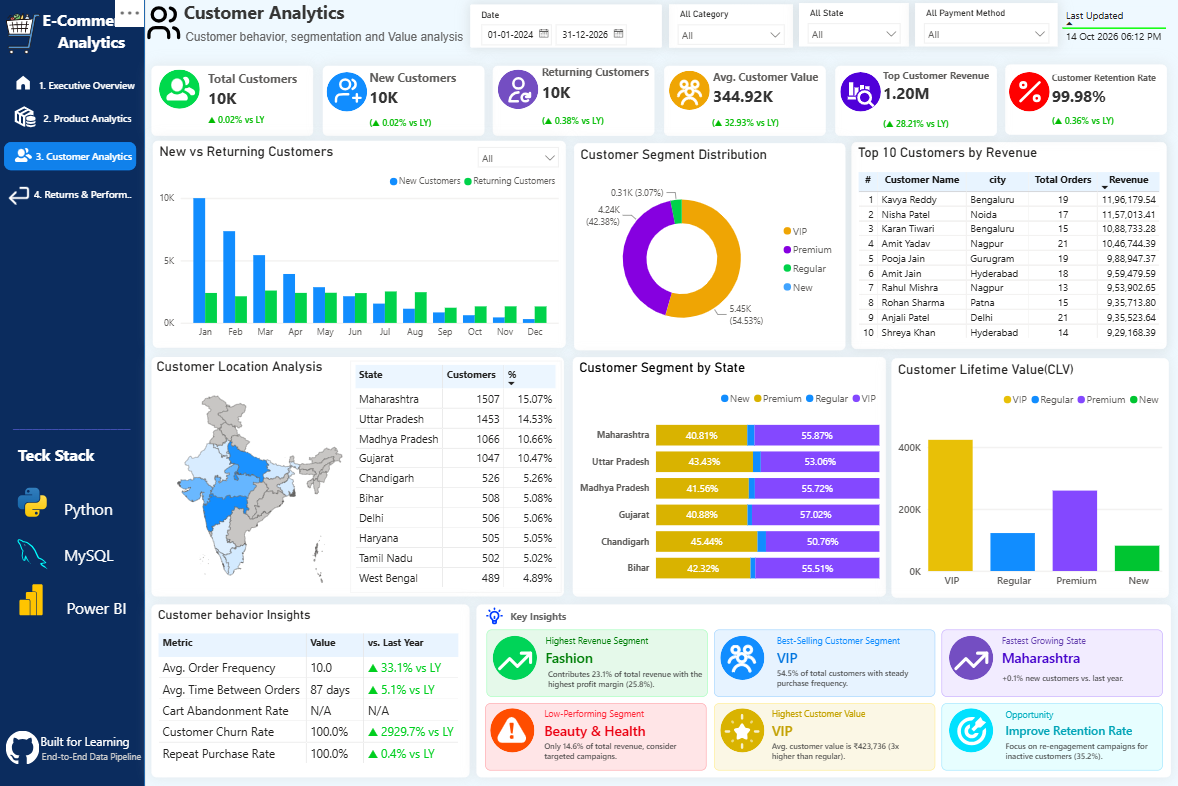

The page's visual inventory and layout, read from the dashboard file:
{"tool":"powerbi","page":{"name":"3. Customer Analytics","canvas":[1600,1070],"ordinal":2},"visuals":[{"type":"slicer","fields":{"Values":["products.category"]},"box":[909,10,168,58],"z":0},{"type":"slicer","fields":{"Values":["calendar.date"]},"box":[638.8,10.4,259.7,58.2],"z":1000},{"type":"tableEx","fields":{"Values":["RefreshInfo.Last Updated Text"]},"box":[1435.6,8.4,163,65],"z":2000},{"type":"slicer","fields":{"Values":["customers.state"]},"box":[1085,9,149,58],"z":3000},{"type":"slicer","fields":{"Values":["orders.payment_method"]},"box":[1243,9,193,58],"z":4000},{"type":"shape","box":[0,0,197.7,1080.2],"z":5000},{"type":"image","box":[3.3,21.7,58.5,55.1],"z":6000},{"type":"textbox","box":[52.6,12.2,145.5,73.4],"z":7000},{"type":"actionButton","title":"1. Executive Overview","box":[6.7,197.2,178.8,38.4],"z":8000},{"type":"actionButton","title":"1. Executive Overview","box":[3.6,95.2,184.5,47.6],"z":9000},{"type":"actionButton","title":"1. Executive Overview","box":[3.3,247.3,180.5,40.1],"z":10000},{"type":"actionButton","title":"1. Executive Overview","box":[5,140,178.8,46.2],"z":11000},{"type":"image","box":[13.4,107,38.4,20.1],"z":12000},{"type":"image","box":[5,145,61.2,33.8],"z":13000},{"type":"image","box":[11.7,195.5,43.5,38.4],"z":14000},{"type":"shape","box":[207.5,92.5,219.4,95.5],"z":15000},{"type":"textbox","box":[238.8,0,358.3,63.6],"z":16000},{"type":"textbox","box":[247.8,40.3,420.9,37.3],"z":17000},{"type":"textbox","box":[12.9,556.5,180.6,40.3],"z":18000},{"type":"image","box":[21,662.9,50,45.2],"z":19000},{"type":"image","box":[22.6,727.4,46.8,56.5],"z":20000},{"type":"image","box":[19.4,795.2,50,45.2],"z":21000},{"type":"textbox","box":[83.9,674.2,88.6,40.1],"z":22000},{"type":"textbox","box":[87.1,808.1,123.7,48.5],"z":23000},{"type":"textbox","box":[83.9,737.1,105.3,58.5],"z":24000},{"type":"textbox","box":[21,601.6,138.7,38.7],"z":25000},{"type":"tableEx","title":"Top 10 Customers by Revenue","fields":{"Values":["select","customers.customer_name","customers.city","orders.Total Orders","orders.Total Revenue"]},"box":[1156.7,197,427,281],"z":26000},{"type":"image","box":[11.7,254,30.1,30.1],"z":27000},{"type":"image","box":[197,0,53.7,70.1],"z":28000},{"type":"shape","box":[217.4,98.9,55.4,53.3],"z":29000},{"type":"textbox","box":[53.2,1014.5,167.7,33.9],"z":30000},{"type":"shape","box":[1363.7,91.9,219.4,95.5],"z":31000},{"type":"shape","box":[1134.3,92.5,219.4,95.5],"z":32000},{"type":"shape","box":[901.5,92.5,219.4,95.5],"z":33000},{"type":"shape","box":[670.1,92.5,219.4,95.5],"z":34000},{"type":"shape","box":[438.8,92.5,219.4,95.5],"z":35000},{"type":"image","box":[6.5,995.2,50,45.3],"z":36000},{"type":"image","box":[894.1,93.6,83.6,65.7],"z":37000},{"type":"cardVisual","fields":{"Data":["orders.Total Customers"]},"box":[253.7,79.1,185.2,90.9],"z":38000},{"type":"cardVisual","fields":{"Data":["orders.Customers VS LY"]},"box":[255,137,179,55],"z":39000},{"type":"shape","box":[1368.7,101.9,55.1,53.5],"z":40000},{"type":"shape","box":[1140.3,101.5,55.2,53.7],"z":41000},{"type":"shape","box":[909,100,55.4,53.3],"z":42000},{"type":"shape","box":[676.1,98.5,55.2,53.7],"z":43000},{"type":"shape","box":[444.8,101.5,55.2,53.7],"z":44000},{"type":"image","box":[1143.1,110.3,53.5,43.5],"z":45000},{"type":"image","box":[442.5,107.5,61.8,40.1],"z":46000},{"type":"image","box":[204.9,91.4,84,65.4],"z":47000},{"type":"cardVisual","fields":{"Data":["customers.Top Customer Revenue"]},"box":[1169.8,78.5,205.6,85.2],"z":48000},{"type":"cardVisual","fields":{"Data":["customers.Avg. Customer Value"]},"box":[939.2,78.5,207.2,90.2],"z":49000},{"type":"cardVisual","fields":{"Data":["customers.Returning Customers"]},"box":[706.9,80.2,229,75.2],"z":50000},{"type":"cardVisual","fields":{"Data":["customers.New Customers"]},"box":[473,78.5,185.2,90.9],"z":51000},{"type":"cardVisual","fields":{"Data":["customers.Customer Retention Rate"]},"box":[1398.8,88.6,200,73.5],"z":52000},{"type":"cardVisual","fields":{"Data":["customers.Customer Retention Rate VS LY"]},"box":[1398.8,138.7,157.1,55.1],"z":53000},{"type":"cardVisual","fields":{"Data":["customers.Top Customer Revenue VS LY"]},"box":[1169.8,142.1,179,55],"z":54000},{"type":"cardVisual","fields":{"Data":["customers.Avg. Customer Value VS LY"]},"box":[937.5,140.4,160.4,55.1],"z":55000},{"type":"cardVisual","fields":{"Data":["customers.Returning Customers VS LY"]},"box":[706.9,138.7,179,55],"z":56000},{"type":"cardVisual","fields":{"Data":["customers.New Customers VS LY"]},"box":[473,140.4,165.4,55.1],"z":57000},{"type":"image","box":[1370.4,107,53.5,43.5],"z":58000},{"type":"clusteredColumnChart","title":"New vs Returning Customers ","fields":{"Category":["calendar.Month Name"],"Y":["customers.New Customers","customers.Returning Customers"]},"box":[208.9,195.5,559.9,281],"z":59000},{"type":"slicer","fields":{"Values":["calendar.Year"]},"box":[638.4,193.9,130.4,48.5],"z":60000},{"type":"donutChart","title":"Customer Segment Distribution","fields":{"Y":["CountNonNull(customers.customer_id)"],"Category":["customers.Customer Segment"]},"box":[780,197.8,367.8,281.1],"z":61000},{"type":"shape","box":[207.4,488.9,559.3,324.7],"z":62000},{"type":"shapeMap","title":"Customer Location Analysis","fields":{"Category":["customers.state"],"Value":["orders.Total Customers"]},"box":[208.6,490.1,291,323.5],"z":63000},{"type":"tableEx","fields":{"Values":["customers.state","orders.Total Customers","customers.State Customer %"]},"box":[476,494,286,314],"z":64000},{"type":"hundredPercentStackedBarChart","title":"Customer Segment by State","fields":{"Category":["customers.state"],"Series":["customers.Customer Segment"],"Y":["CountNonNull(customers.customer_id)"]},"box":[777.5,488.8,425,325],"z":65000},{"type":"columnChart","title":"Customer Lifetime Value(CLV)","fields":{"Y":["customers.Customer Lifetime Value"],"Category":["customers.Customer Segment"],"Series":["customers.Customer Segment"]},"box":[1210.7,489.3,376.2,325],"z":66000},{"type":"tableEx","title":"Customer behavior Insights","fields":{"Values":["Customer Behavior Metrics.Metric","Customer Behavior Metrics.Behavior Value","Customer Behavior Metrics.Behavior VS LY"]},"box":[207.4,823.5,430.9,234.6],"z":67000},{"type":"shape","box":[648.1,823.5,942,234.6],"z":68000},{"type":"image","box":[654.3,824.7,35.8,27.2],"z":69000},{"type":"shape","box":[660.5,858,300,91.4],"z":70000},{"type":"shape","box":[969.1,858,300,91.4],"z":71000},{"type":"shape","box":[1277.8,858,300,91.4],"z":72000},{"type":"shape","box":[659.3,956.8,300,91.4],"z":73000},{"type":"shape","box":[1277.8,956.8,300,91.4],"z":74000},{"type":"shape","box":[969.1,956.8,300,91.4],"z":75000},{"type":"textbox","box":[688.9,825.9,87.7,32.1],"z":76000},{"type":"shape","box":[977.5,866.2,60,60],"z":77000},{"type":"image","box":[976.2,877.5,61.2,38.8],"z":78000},{"type":"shape","box":[668.8,866.2,60,60],"z":79000},{"type":"shape","box":[977.5,965,60,60],"z":80000},{"type":"shape","box":[666.2,965,60,60],"z":81000},{"type":"shape","box":[1288.8,866.2,60,60],"z":82000},{"type":"shape","box":[1288.8,965,60,60],"z":83000},{"type":"image","box":[912.5,111.2,48.8,35],"z":84000},{"type":"image","box":[680,105,52.5,41.2],"z":85000},{"type":"image","box":[1288.8,976.2,61.2,38.8],"z":86000},{"type":"image","box":[977.5,968.8,58.8,52.5],"z":87000},{"type":"image","box":[665,975,61.2,38.8],"z":88000},{"type":"image","box":[673.8,867.5,50,65],"z":89000},{"type":"image","box":[1292.5,867.5,50,65],"z":90000},{"type":"cardVisual","fields":{"Data":["orders.Highest Revenue Segment"]},"box":[712,849,252,75],"z":91000},{"type":"cardVisual","fields":{"Data":["orders.Page3,1_Description"]},"box":[715,874,296,99],"z":92000},{"type":"cardVisual","fields":{"Data":["orders.Best-Selling Customer Segment"]},"box":[1026,849,252,75],"z":93000},{"type":"cardVisual","fields":{"Data":["orders.Page3,2_Description"]},"box":[1026,868,252,108],"z":94000},{"type":"cardVisual","fields":{"Data":["orders.Fastest Growing State"]},"box":[1331,849,252,75],"z":95000},{"type":"cardVisual","fields":{"Data":["orders.Page3,3_Description"]},"box":[1331,893,234,56],"z":96000},{"type":"cardVisual","fields":{"Data":["orders.Opportunity"]},"box":[1335,947,252,75],"z":97000},{"type":"cardVisual","fields":{"Data":["orders.Highest Customer Value"]},"box":[1018,947,252,75],"z":98000},{"type":"cardVisual","fields":{"Data":["orders.Low-Performing Segment"]},"box":[711,947,252,75],"z":99000},{"type":"cardVisual","fields":{"Data":["orders.Page3,6_Description"]},"box":[1335,971,261,99],"z":100000},{"type":"cardVisual","fields":{"Data":["customers.Page3,5_Description"]},"box":[1018,971,260,99],"z":101000},{"type":"cardVisual","fields":{"Data":["orders.Page3,4_Description"]},"box":[711,971,265,99],"z":102000},{"type":"textbox","box":[51.6,993.5,140.3,43.5],"z":103000}]}

Visuals, with their boxes on the page's 1600x1070 design canvas (x1, y1, x2, y2). These are canvas units, not pixel positions in the 1178x786 screenshot, which may show the page scaled, cropped or inside an application window:
slicer - products.category: [909,10,1077,68]
slicer - calendar.date: [639,10,898,69]
tableEx - RefreshInfo.Last Updated Text: [1436,8,1599,73]
slicer - customers.state: [1085,9,1234,67]
slicer - orders.payment_method: [1243,9,1436,67]
shape: [0,0,198,1080]
image: [3,22,62,77]
textbox: [53,12,198,86]
"1. Executive Overview" actionButton: [7,197,186,236]
"1. Executive Overview" actionButton: [4,95,188,143]
"1. Executive Overview" actionButton: [3,247,184,287]
"1. Executive Overview" actionButton: [5,140,184,186]
image: [13,107,52,127]
image: [5,145,66,179]
image: [12,196,55,234]
shape: [208,92,427,188]
textbox: [239,0,597,64]
textbox: [248,40,669,78]
textbox: [13,556,194,597]
image: [21,663,71,708]
image: [23,727,69,784]
image: [19,795,69,840]
textbox: [84,674,172,714]
textbox: [87,808,211,857]
textbox: [84,737,189,796]
textbox: [21,602,160,640]
"Top 10 Customers by Revenue" tableEx: [1157,197,1584,478]
image: [12,254,42,284]
image: [197,0,251,70]
shape: [217,99,273,152]
textbox: [53,1014,221,1048]
shape: [1364,92,1583,187]
shape: [1134,92,1354,188]
shape: [902,92,1121,188]
shape: [670,92,890,188]
shape: [439,92,658,188]
image: [6,995,56,1040]
image: [894,94,978,159]
cardVisual - orders.Total Customers: [254,79,439,170]
cardVisual - orders.Customers VS LY: [255,137,434,192]
shape: [1369,102,1424,155]
shape: [1140,102,1196,155]
shape: [909,100,964,153]
shape: [676,98,731,152]
shape: [445,102,500,155]
image: [1143,110,1197,154]
image: [442,108,504,148]
image: [205,91,289,157]
cardVisual - customers.Top Customer Revenue: [1170,78,1375,164]
cardVisual - customers.Avg. Customer Value: [939,78,1146,169]
cardVisual - customers.Returning Customers: [707,80,936,155]
cardVisual - customers.New Customers: [473,78,658,169]
cardVisual - customers.Customer Retention Rate: [1399,89,1599,162]
cardVisual - customers.Customer Retention Rate VS LY: [1399,139,1556,194]
cardVisual - customers.Top Customer Revenue VS LY: [1170,142,1349,197]
cardVisual - customers.Avg. Customer Value VS LY: [938,140,1098,196]
cardVisual - customers.Returning Customers VS LY: [707,139,886,194]
cardVisual - customers.New Customers VS LY: [473,140,638,196]
image: [1370,107,1424,150]
"New vs Returning Customers " clusteredColumnChart: [209,196,769,476]
slicer - calendar.Year: [638,194,769,242]
"Customer Segment Distribution" donutChart: [780,198,1148,479]
shape: [207,489,767,814]
"Customer Location Analysis" shapeMap: [209,490,500,814]
tableEx - customers.state x orders.Total Customers: [476,494,762,808]
"Customer Segment by State" hundredPercentStackedBarChart: [778,489,1202,814]
"Customer Lifetime Value(CLV)" columnChart: [1211,489,1587,814]
"Customer behavior Insights" tableEx: [207,824,638,1058]
shape: [648,824,1590,1058]
image: [654,825,690,852]
shape: [660,858,960,949]
shape: [969,858,1269,949]
shape: [1278,858,1578,949]
shape: [659,957,959,1048]
shape: [1278,957,1578,1048]
shape: [969,957,1269,1048]
textbox: [689,826,777,858]
shape: [978,866,1038,926]
image: [976,878,1037,916]
shape: [669,866,729,926]
shape: [978,965,1038,1025]
shape: [666,965,726,1025]
shape: [1289,866,1349,926]
shape: [1289,965,1349,1025]
image: [912,111,961,146]
image: [680,105,732,146]
image: [1289,976,1350,1015]
image: [978,969,1036,1021]
image: [665,975,726,1014]
image: [674,868,724,932]
image: [1292,868,1342,932]
cardVisual - orders.Highest Revenue Segment: [712,849,964,924]
cardVisual - orders.Page3,1_Description: [715,874,1011,973]
cardVisual - orders.Best-Selling Customer Segment: [1026,849,1278,924]
cardVisual - orders.Page3,2_Description: [1026,868,1278,976]
cardVisual - orders.Fastest Growing State: [1331,849,1583,924]
cardVisual - orders.Page3,3_Description: [1331,893,1565,949]
cardVisual - orders.Opportunity: [1335,947,1587,1022]
cardVisual - orders.Highest Customer Value: [1018,947,1270,1022]
cardVisual - orders.Low-Performing Segment: [711,947,963,1022]
cardVisual - orders.Page3,6_Description: [1335,971,1596,1070]
cardVisual - customers.Page3,5_Description: [1018,971,1278,1070]
cardVisual - orders.Page3,4_Description: [711,971,976,1070]
textbox: [52,994,192,1037]
